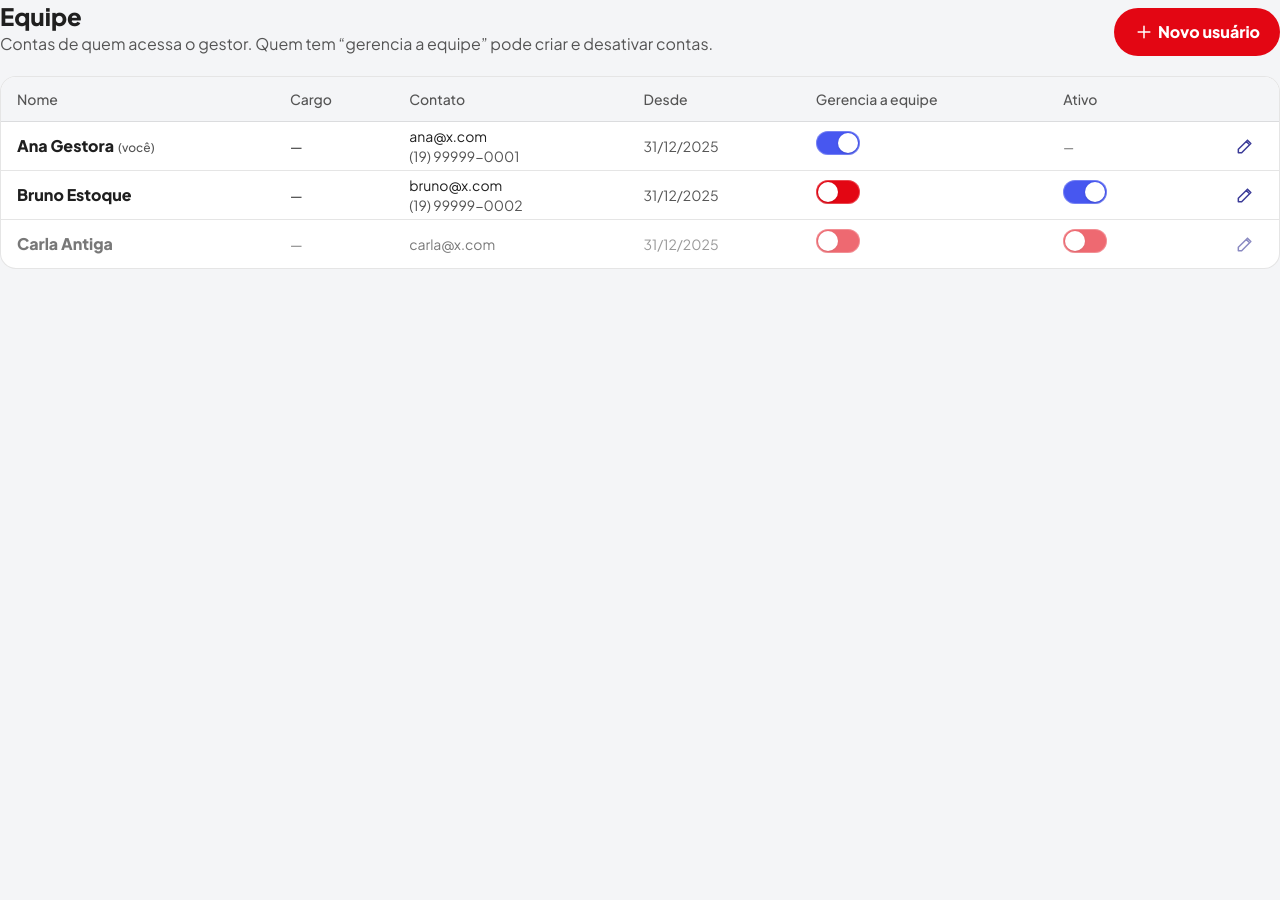
it: Equipe: redefinição de senha por link › a própria conta vê o texto sobre Minha conta e não o botão
Step 1. Click the button named "Editar" in the row of "Ana Gestora" → (1245, 146), box [1227,128,1263,164]
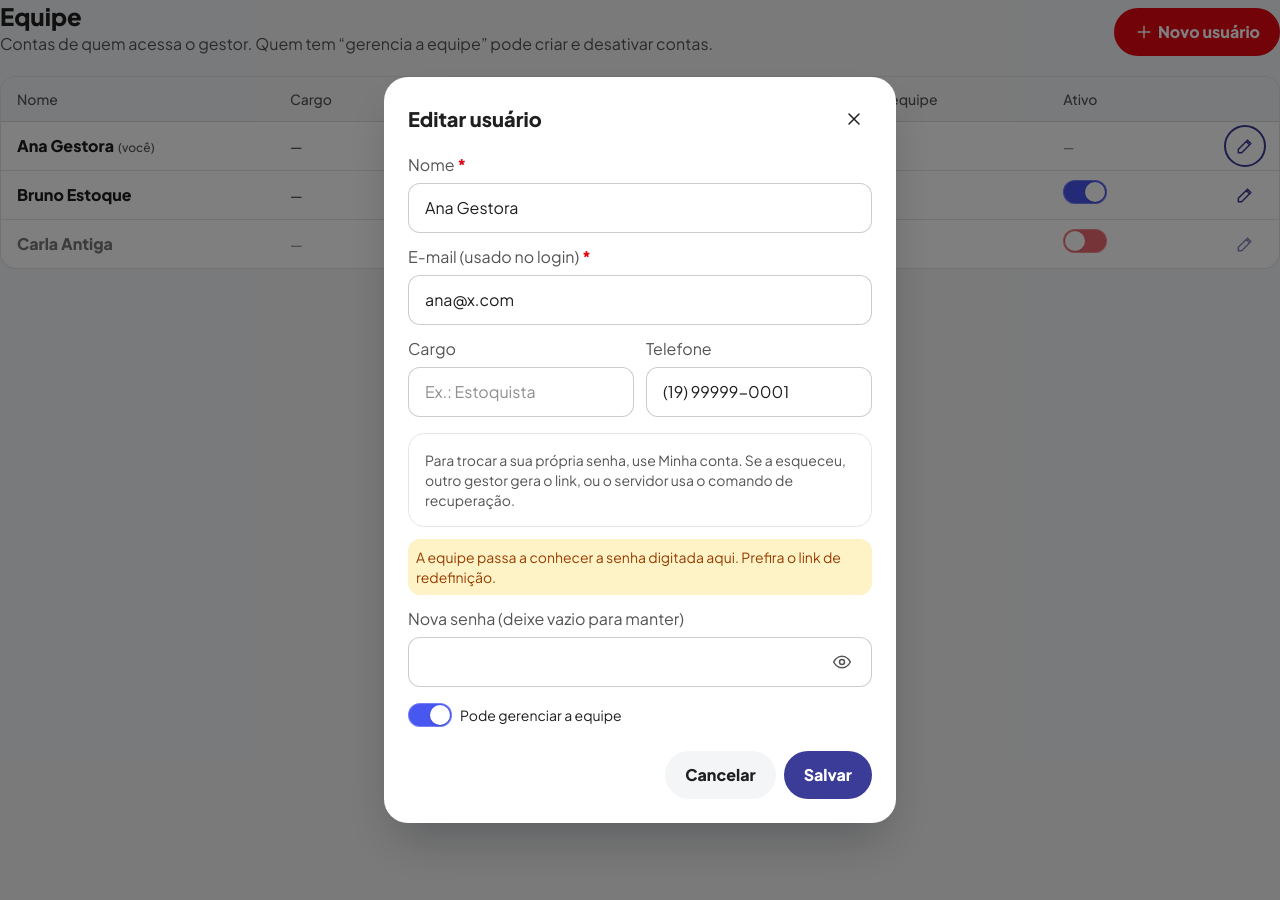
Result: the text "Para trocar a sua própria senha, use Minha conta" is shown at [425,451,846,509]
